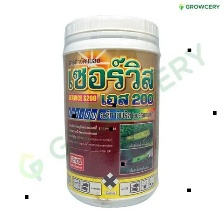insecticide: (57, 11, 162, 211)
